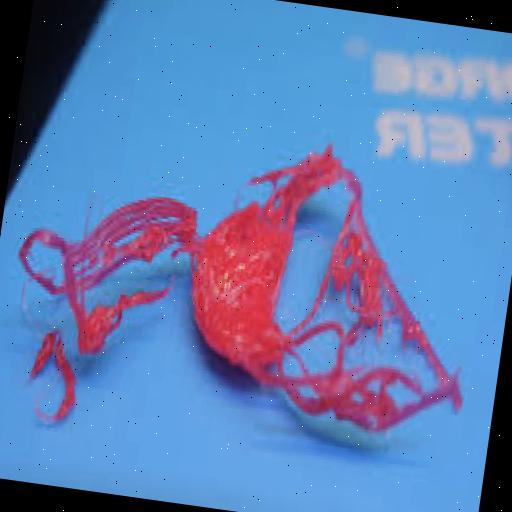spaghetti: (240, 310, 350, 422)
